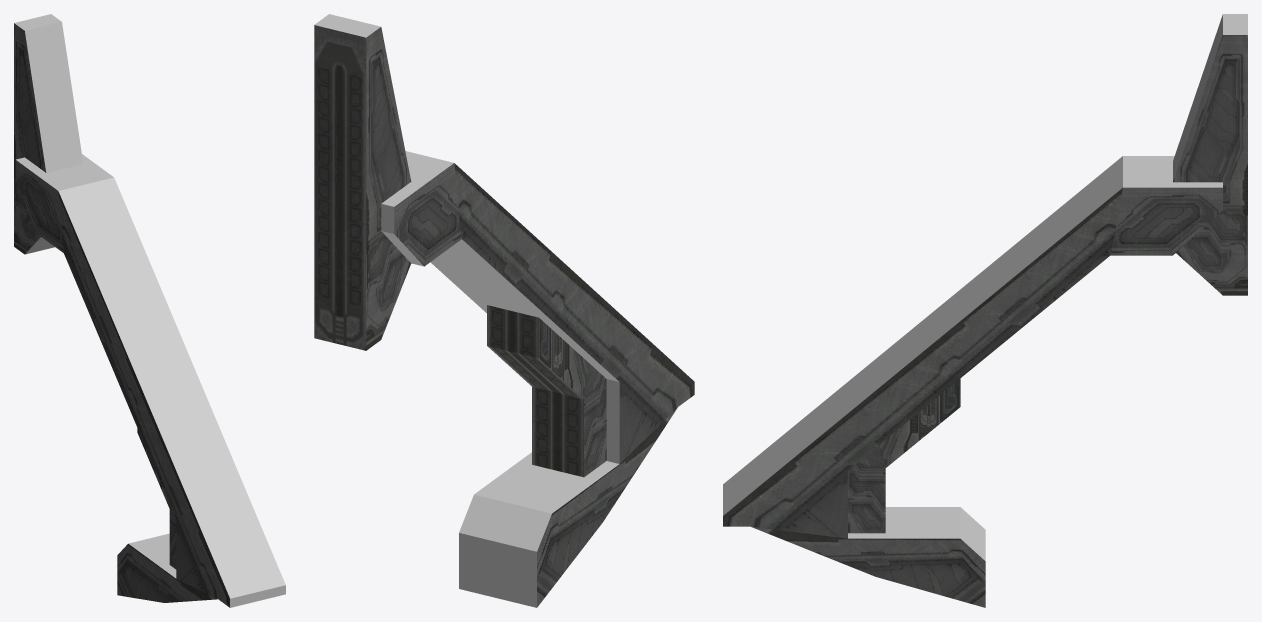
The model's file is antenna.FBX.
3 views of the same model, side by side, from view 1: azimuth 30°, elevation 25°; view 2: azimuth 150°, elevation 25°; view 3: azimuth 270°, elevation 25° (orthographic). The views are drawn at different scales.
Parts seen in each view (by area): view 1: default:default; view 2: default:default; view 3: default:default.
Boxes of the visible parts, box(x1,y1,x2,y2) form: default:default: box(14, 14, 285, 607); default:default: box(314, 14, 694, 607); default:default: box(723, 14, 1247, 607).
Size of the model in its own units: 60 by 501 by 420.
